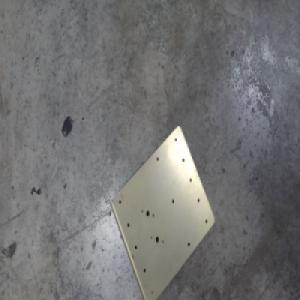MetalSheet: (108, 125, 215, 300)
